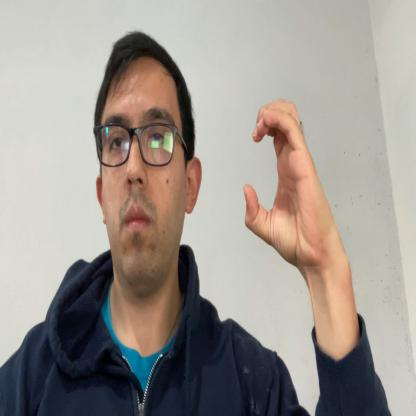C: (244, 99, 330, 262)
